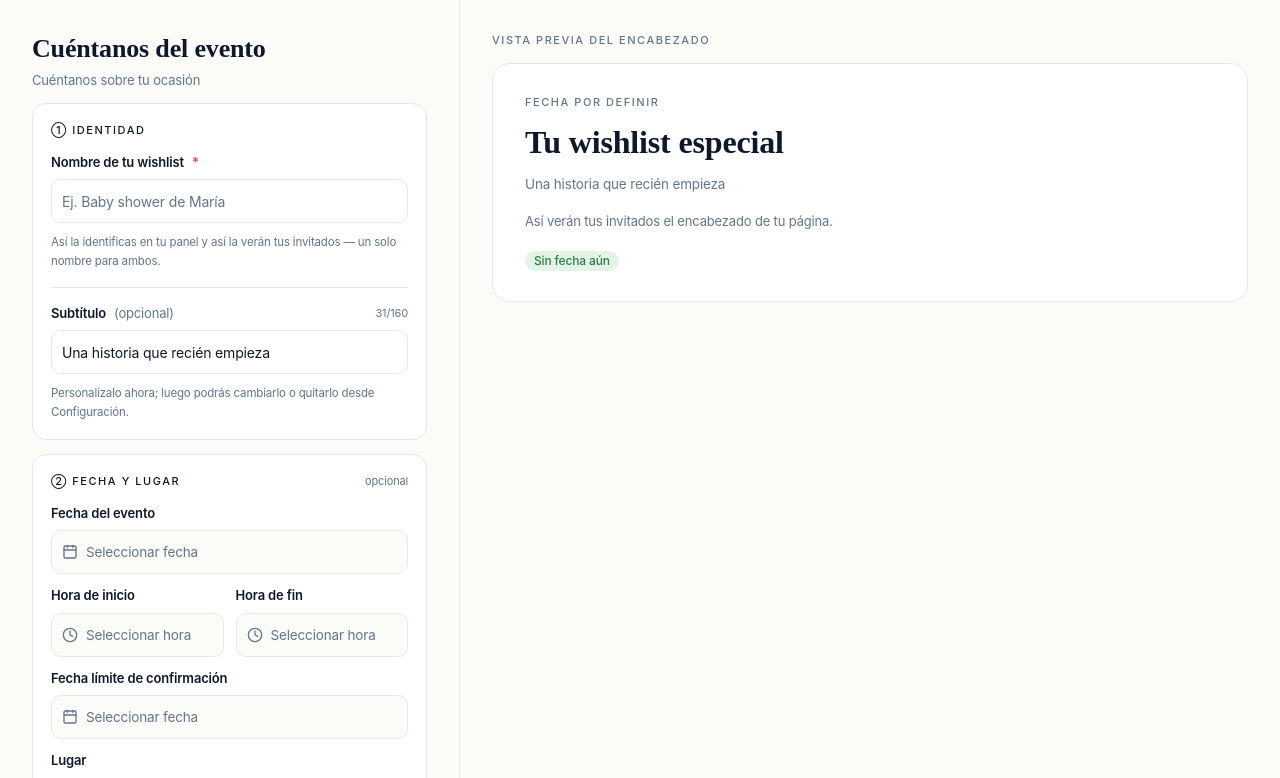
DetailsStep subtitle › updates the live header preview and collapses it immediately when cleared
Expected: the text "Una historia que recién empieza" is shown, [525, 176, 725, 192]
Clear the field labelled "Subtítulo (opcional)" at coordinates (230, 352), box [51, 330, 408, 374]
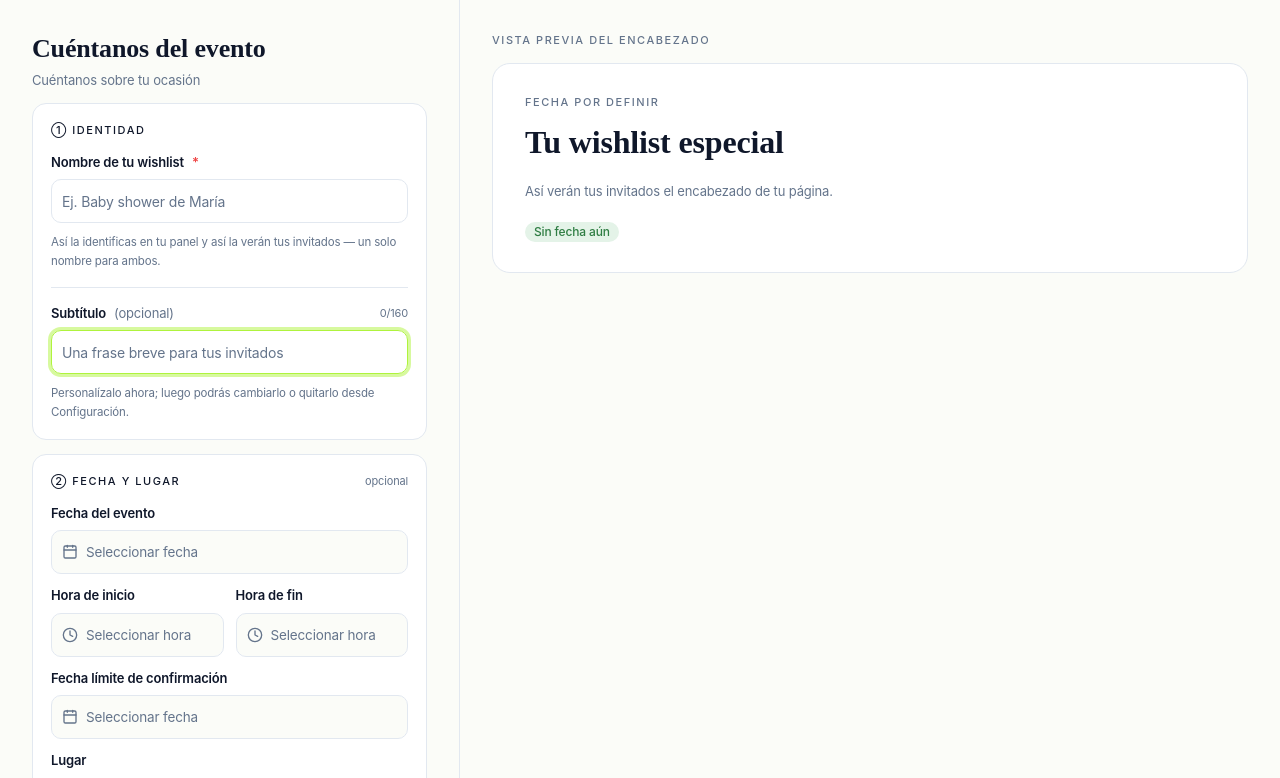
Expected: the text "Una historia que recién empieza" is gone
